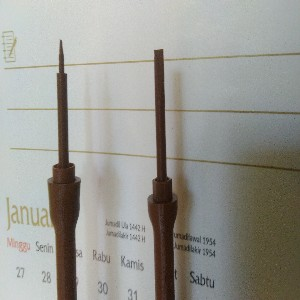obeng: (146, 48, 178, 300)
solder: (46, 39, 82, 300)
